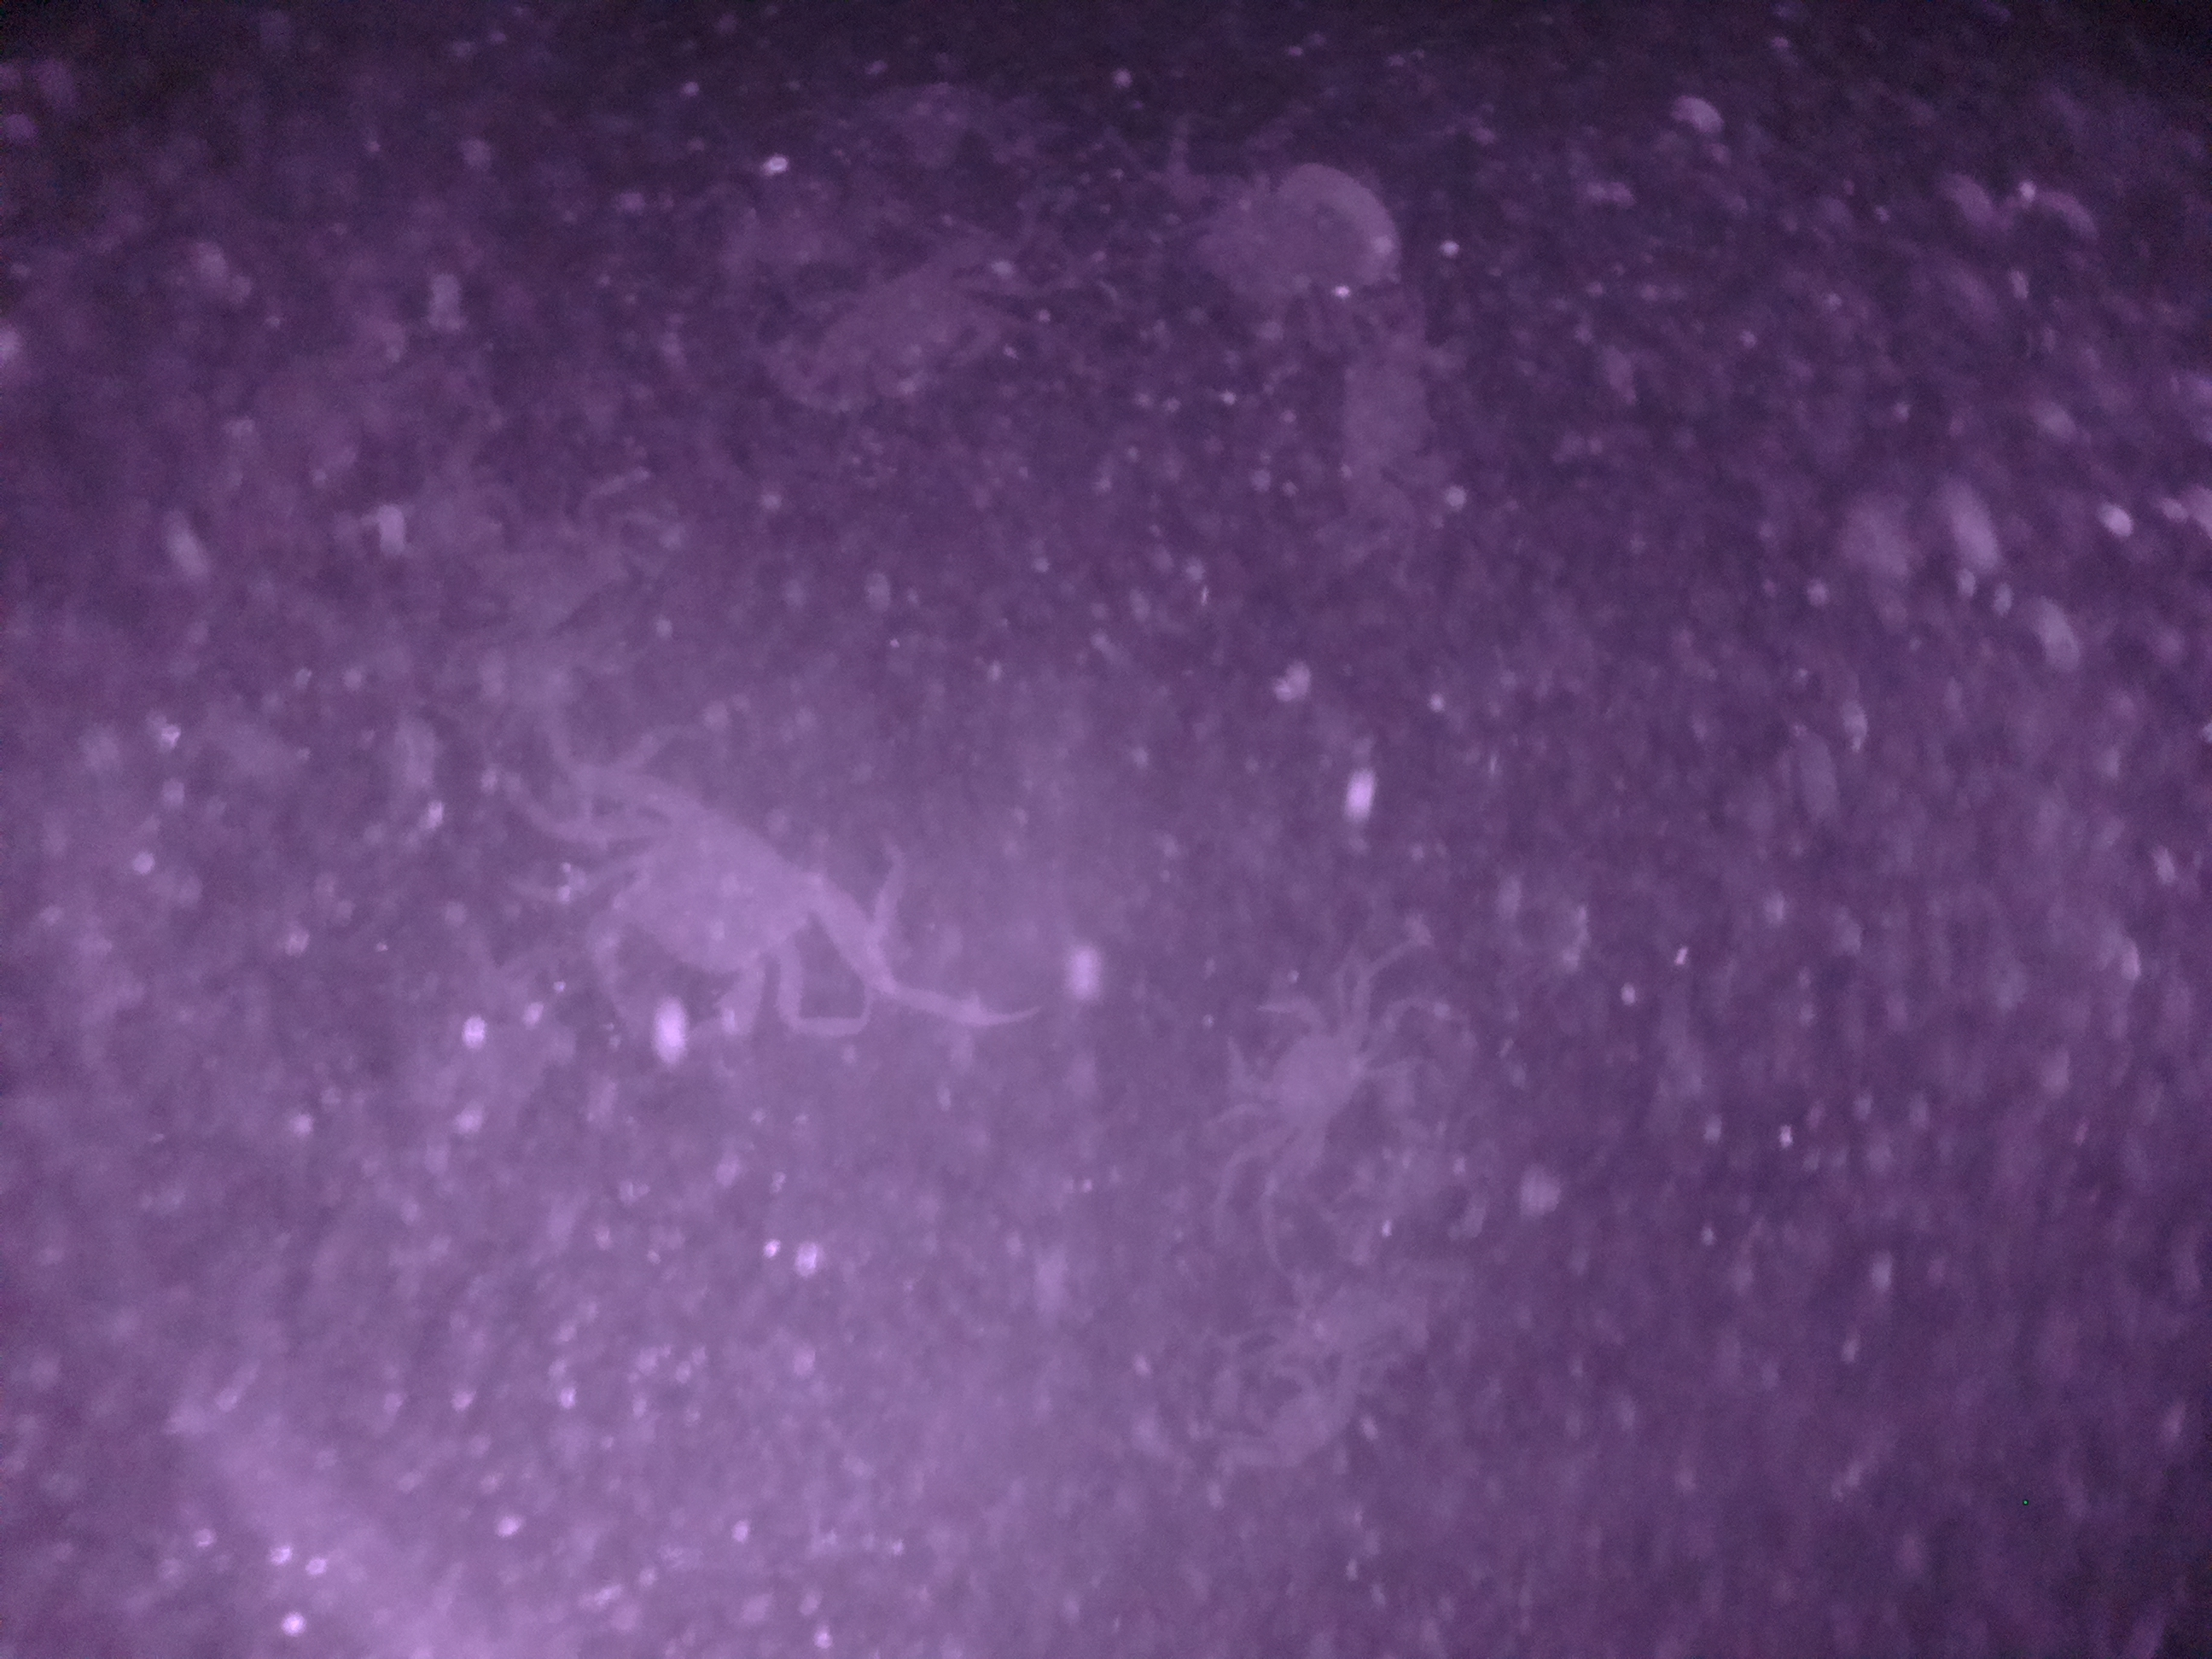Crab: (1205, 964, 1413, 1188)
